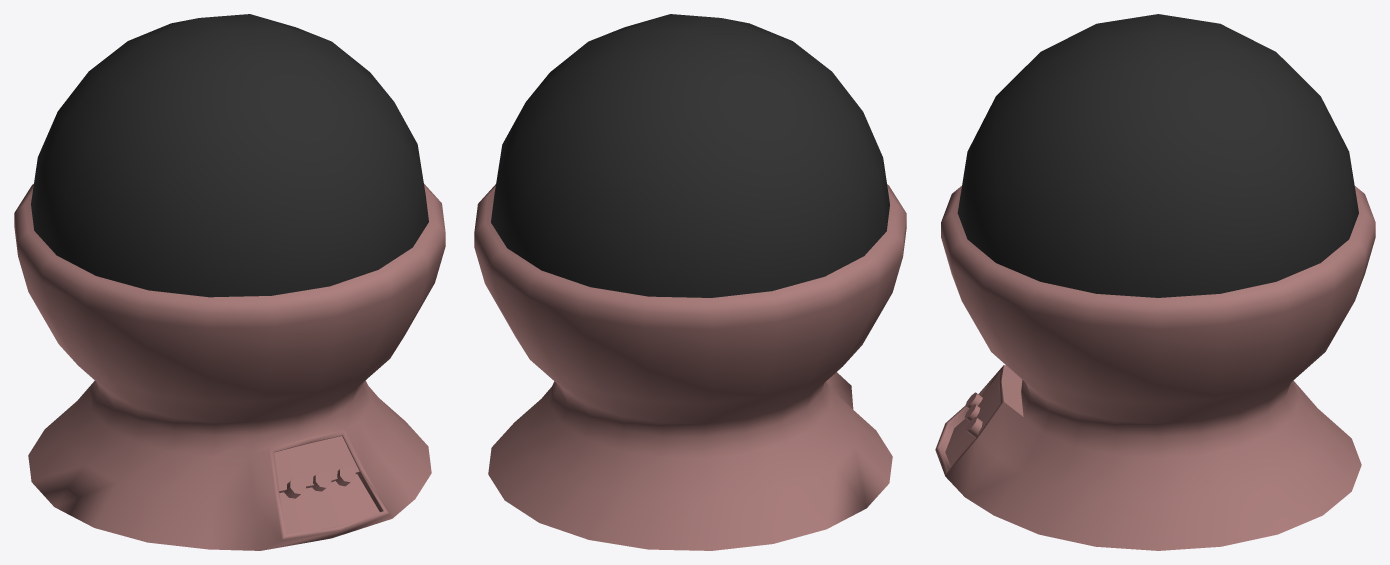
Rendered from jugueteProyector.FBX.
3 views of the same model, side by side, from view 1: azimuth 30°, elevation 25°; view 2: azimuth 150°, elevation 25°; view 3: azimuth 270°, elevation 25° (orthographic).
Parts seen in each view (by area): view 1: Sphere002, Sphere001; view 2: Sphere002, Sphere001; view 3: Sphere002, Sphere001.
Boxes of the visible parts, left/top/right/bottom form: Sphere002: left=14, top=184, right=445, bottom=550; Sphere001: left=31, top=14, right=428, bottom=297; Sphere002: left=474, top=184, right=906, bottom=550; Sphere001: left=491, top=14, right=889, bottom=297; Sphere002: left=935, top=186, right=1375, bottom=550; Sphere001: left=957, top=14, right=1358, bottom=297.
Size of the model in its own units: 20.46 by 22.53 by 20.73.
